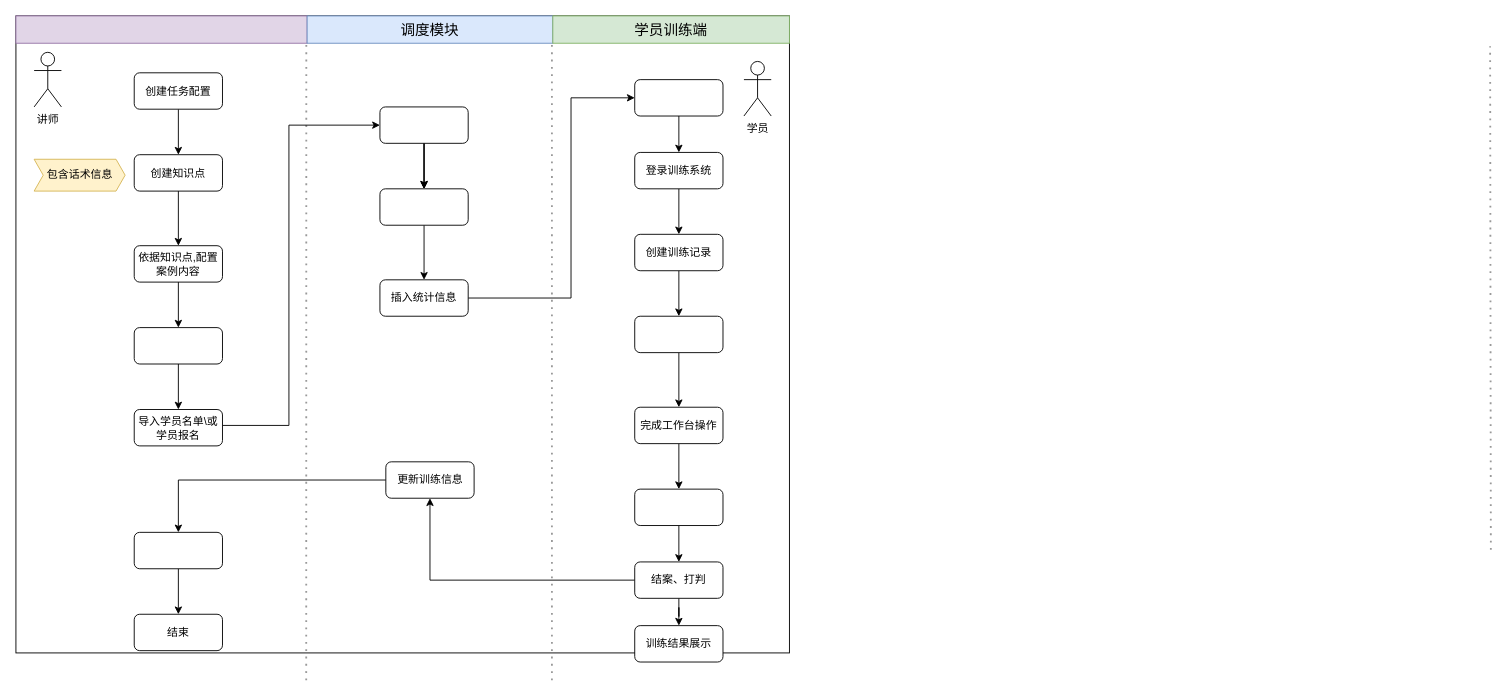
This 1509x698 diagram has some shape labels left out. Here are the shapes that lost their labels. From the top down, the box of each, then its label:
(15, 15, 307, 43): 讲师配置端
(634, 79, 723, 116): 开始学习
(379, 106, 468, 143): 生成学习任务
(379, 188, 468, 225): 生成案例任务
(133, 327, 222, 364): 配置学习任务
(634, 315, 723, 353): 完成会话
(634, 488, 723, 526): 其他观看视频、考试等内容
(133, 531, 222, 569): 统计数据展示
